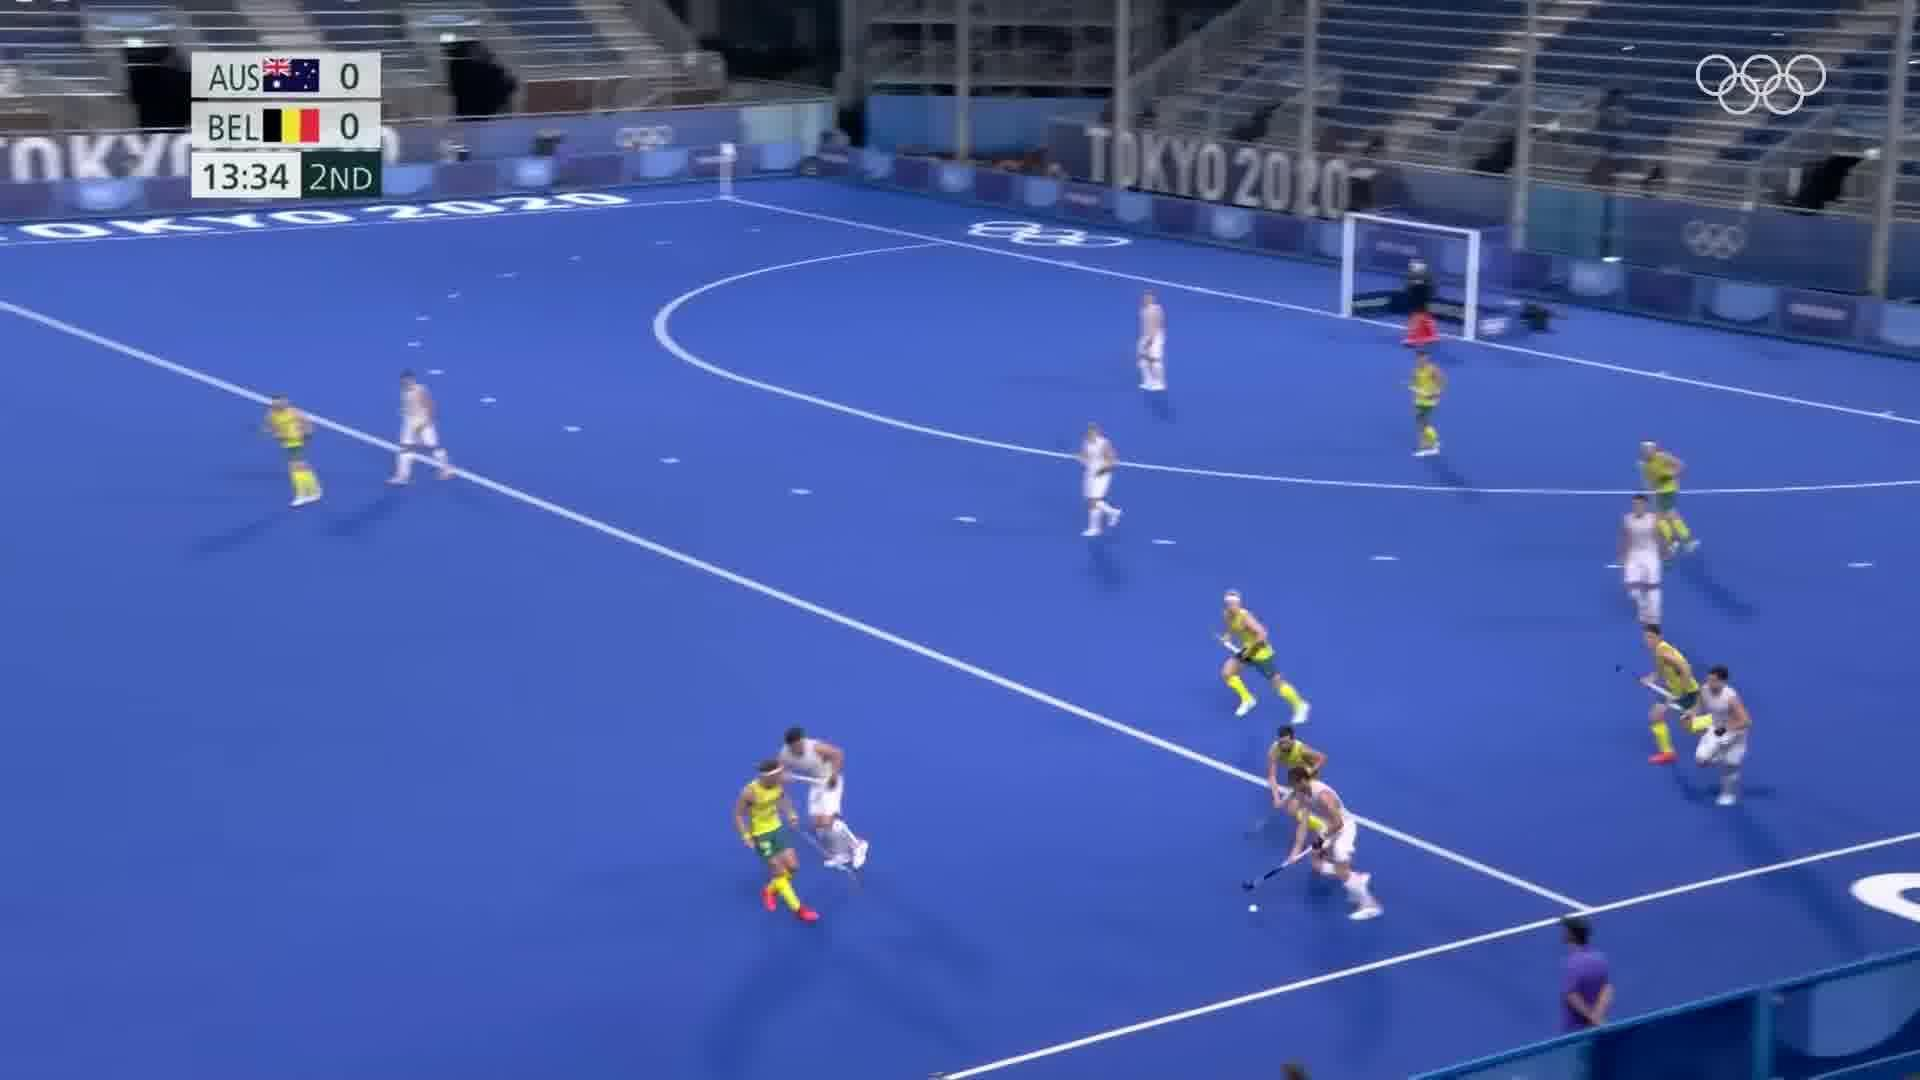ball: (1244, 895, 1263, 920)
